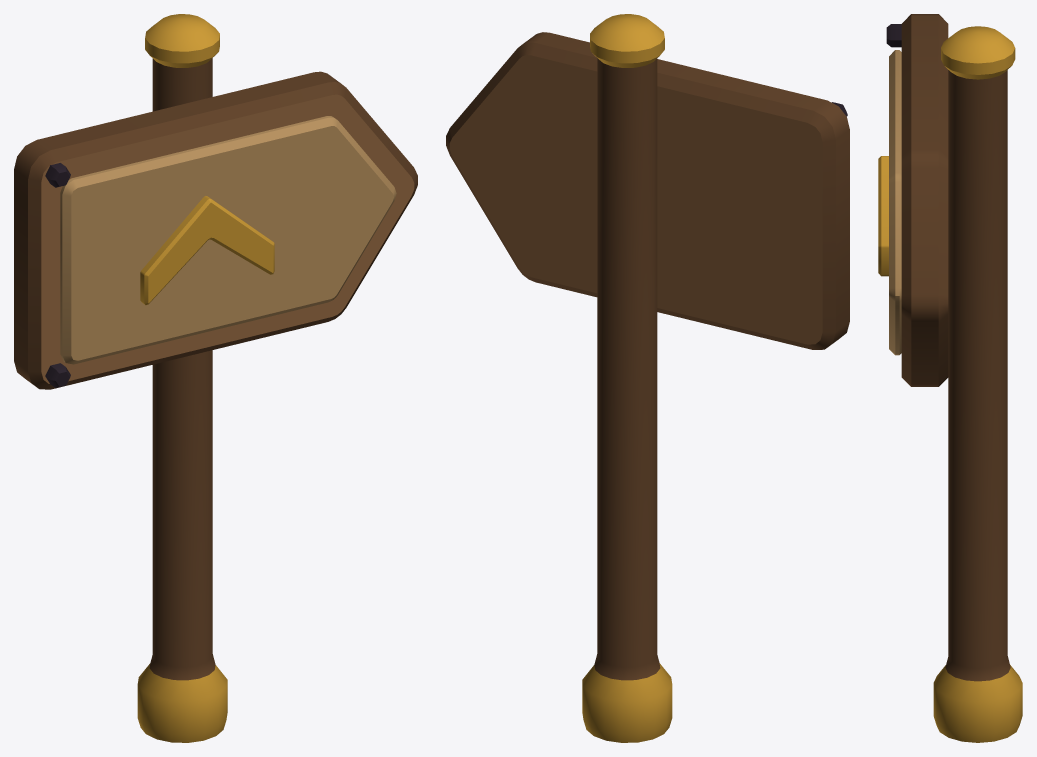
The model's file is Sign_09.glb.
3 renders of one model, left to right at view 1: azimuth 30°, elevation 25°; view 2: azimuth 150°, elevation 25°; view 3: azimuth 270°, elevation 25°, orthographic.
Visible parts, largest first — view 1: Sign_09; view 2: Sign_09; view 3: Sign_09.
Part boxes in pixels (box(x1,y1,x2,y2)): Sign_09: box(14, 14, 417, 742); Sign_09: box(446, 14, 849, 742); Sign_09: box(878, 14, 1022, 742).
Bounding box in the file's own units: 2.08 × 3.6 × 0.68.
